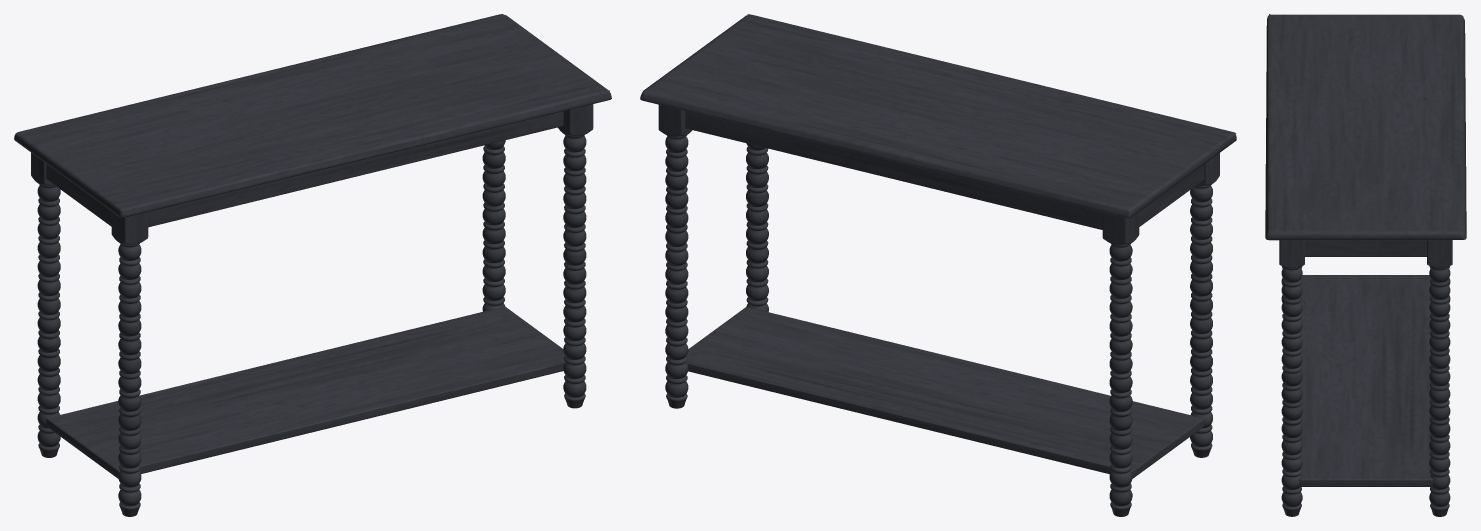
File: abo_B07MBFDJWL.glb
The picture shows the model from 3 angles, left to right: view 1: azimuth 30°, elevation 25°; view 2: azimuth 150°, elevation 25°; view 3: azimuth 270°, elevation 25°; orthographic projection. The views are drawn at different scales.
Parts seen in each view (by area): view 1: RootNode; view 2: RootNode; view 3: RootNode.
Boxes of the visible parts, x1=… form: RootNode: x1=14, y1=14, x2=611, y2=516; RootNode: x1=640, y1=14, x2=1236, y2=516; RootNode: x1=1265, y1=14, x2=1466, y2=516.
Bounding box in the file's own units: 1.18 × 0.7353 × 0.4587.
Materials: 2 (2 with a texture image).
